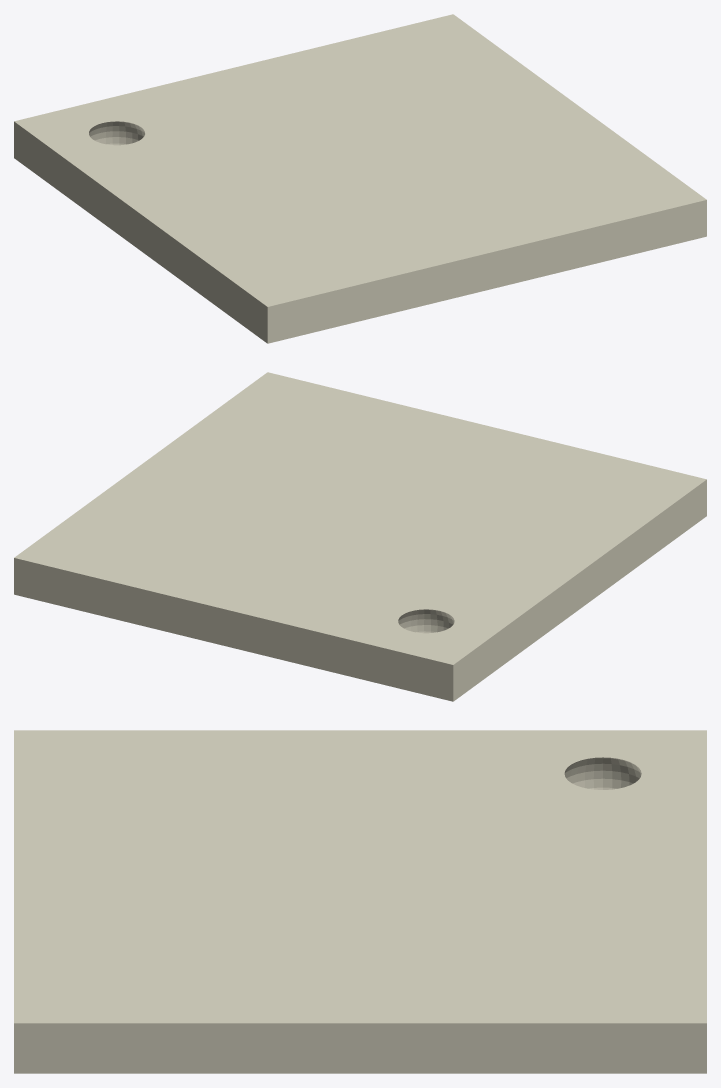
File: Template_ground.fbx
3 renders of one model, top to bottom at view 1: azimuth 30°, elevation 25°; view 2: azimuth 150°, elevation 25°; view 3: azimuth 270°, elevation 25°, orthographic. The views are drawn at different scales.
Parts seen in each view (by area): view 1: Cube; view 2: Cube; view 3: Cube.
Boxes of the visible parts, x1,y1,x2,y2 form: Cube: [14, 14, 706, 343]; Cube: [14, 372, 706, 701]; Cube: [14, 730, 706, 1073].
Size of the model in its own units: 1000 by 80 by 1000.
